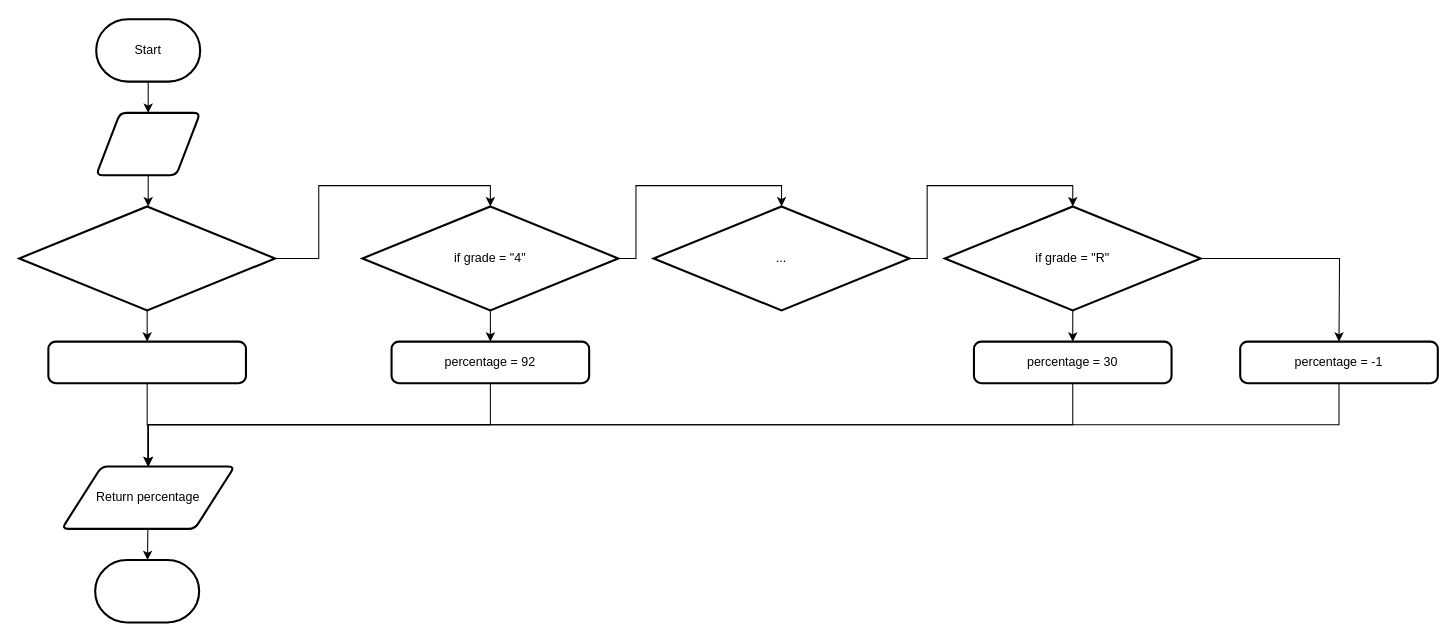
Image size: 1456x641. Some labels were removed from this diagram. Here are the shapes that lost their labels. From the top down, the centre of each, then its label:
(148,143): Get grade
(147,258): if grade = "4+"
(146,362): percentage = 97
(147,590): Stop
